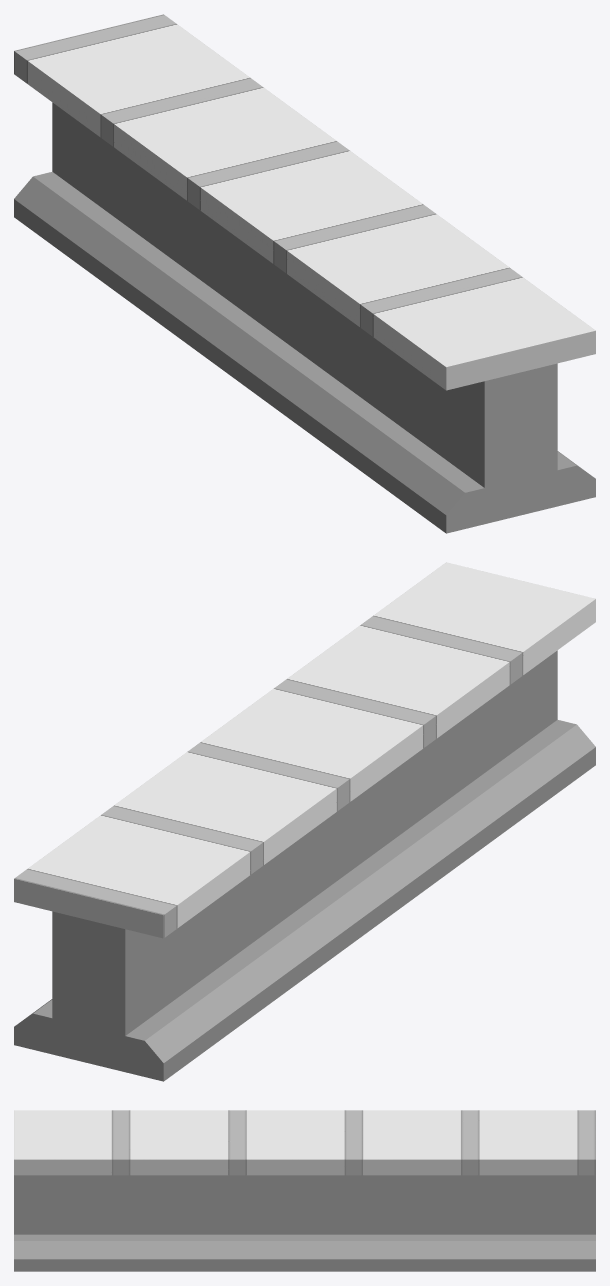
File: conveyor_0.fbx
3 views of the same model, one above another, from view 1: azimuth 30°, elevation 25°; view 2: azimuth 150°, elevation 25°; view 3: azimuth 270°, elevation 25° (orthographic). The views are drawn at different scales.
Visible parts, largest first — view 1: conveyor; view 2: conveyor; view 3: conveyor.
Boxes of the visible parts, x1,y1,x2,y2 form: conveyor: (14,14,595,533); conveyor: (14,562,595,1081); conveyor: (14,1110,595,1271).
Bounding box in the file's own units: 36 × 38.23 × 180.
